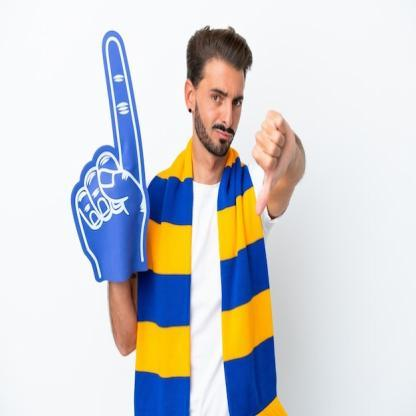thumb_down: (250, 106, 298, 218)
